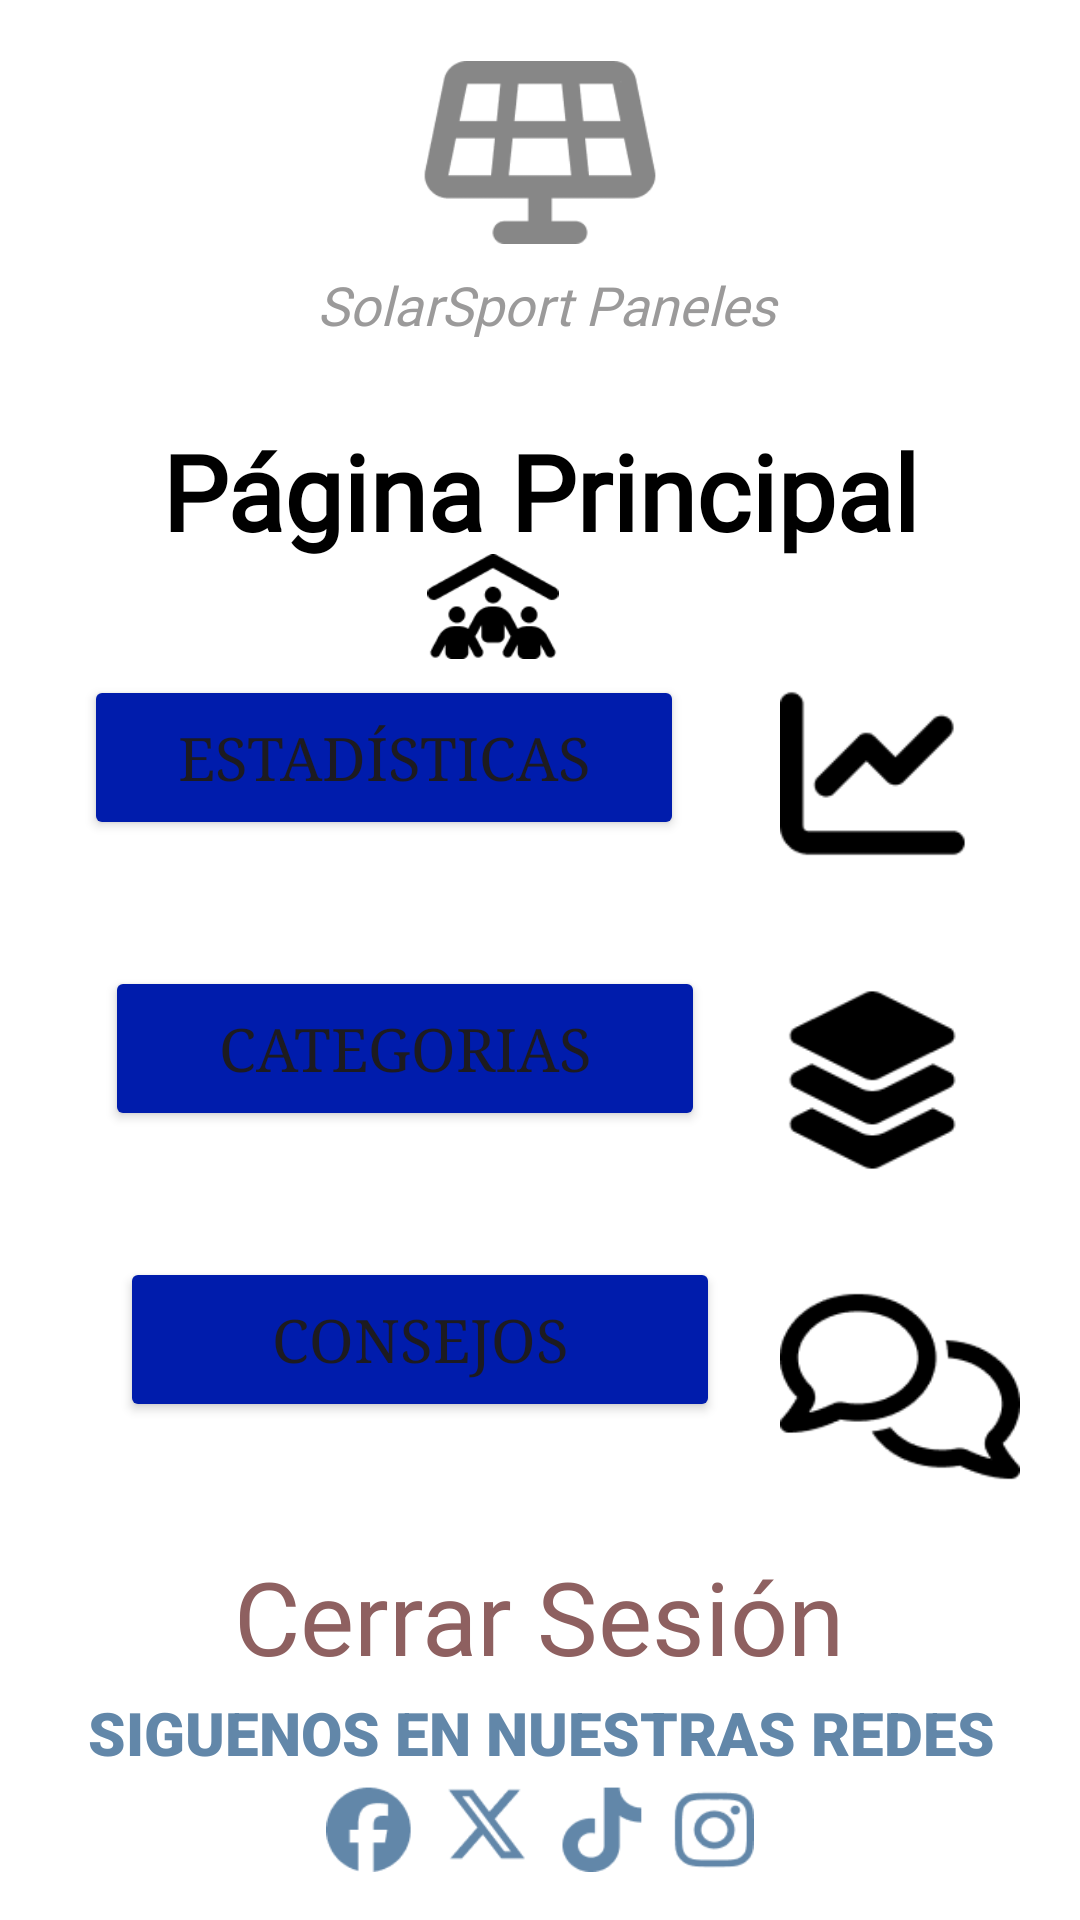

Where icons sit on this 1080 x 1920 app screen, as (x1, y1, x2, y2):
home: (427, 554, 559, 659)
